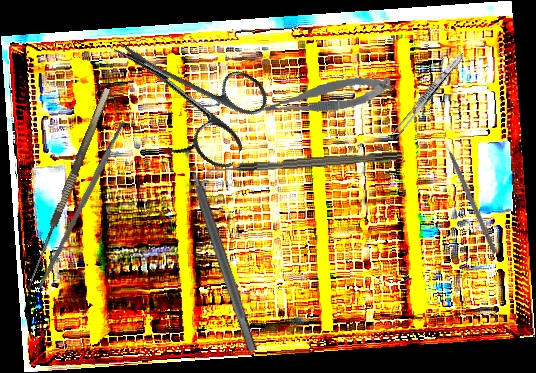Dressing Forceps: (389, 49, 467, 142)
Fixation Ring: (164, 137, 270, 357)
Hook Surgical: (23, 87, 122, 295), (438, 130, 499, 255), (205, 151, 403, 175)
Iris Scissors: (90, 7, 277, 174)
Micro Scissor: (251, 72, 394, 121)
Scalpel Handle: (36, 120, 128, 290)
